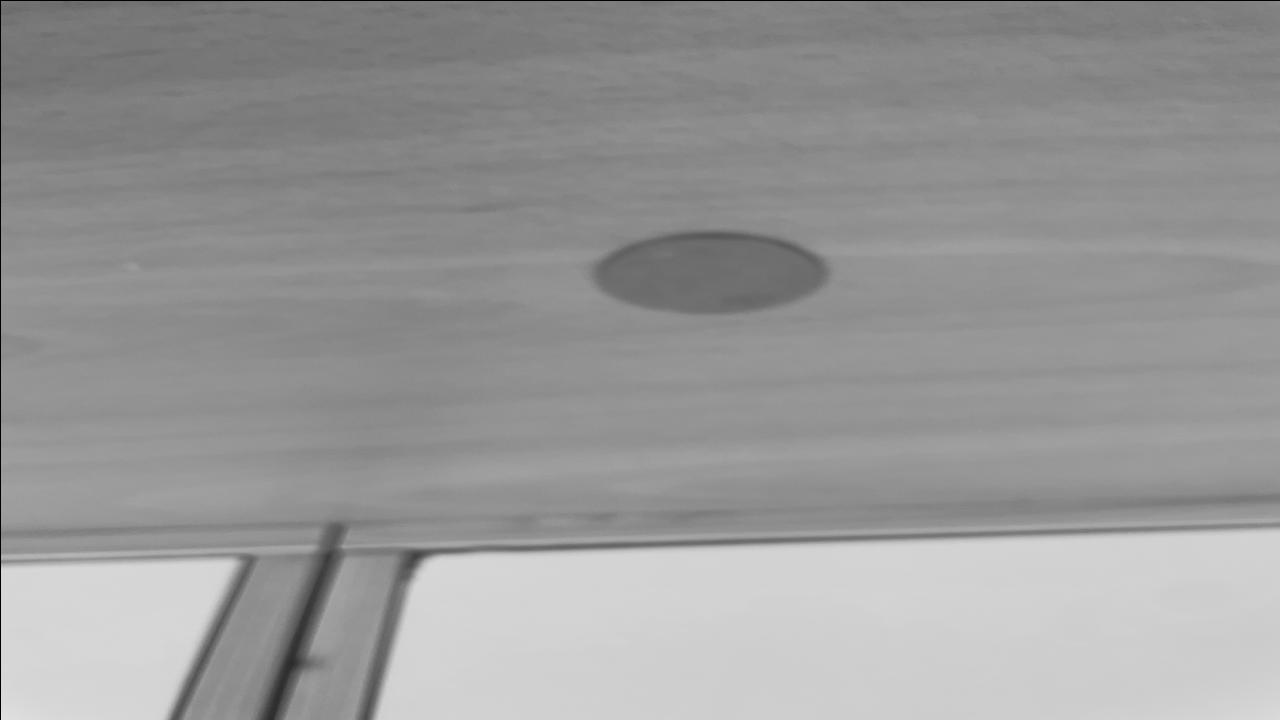coin: (589, 232, 829, 316)
